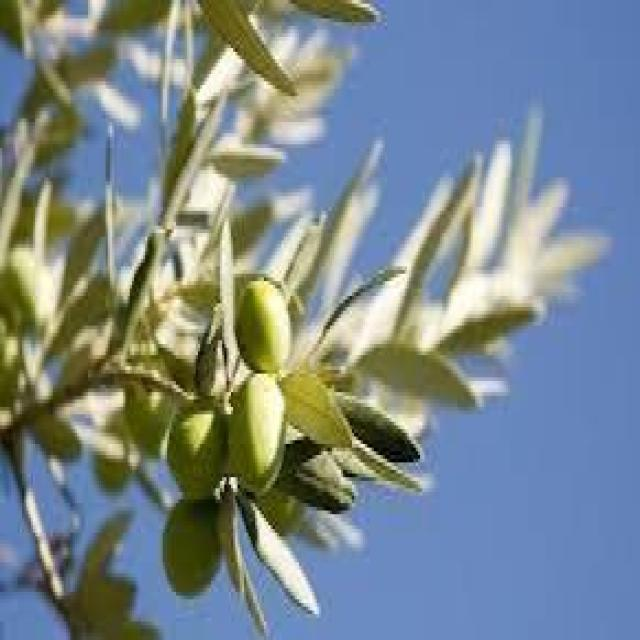Healthy: (229, 374, 284, 492), (167, 392, 229, 496), (234, 277, 290, 370), (163, 499, 218, 592)
